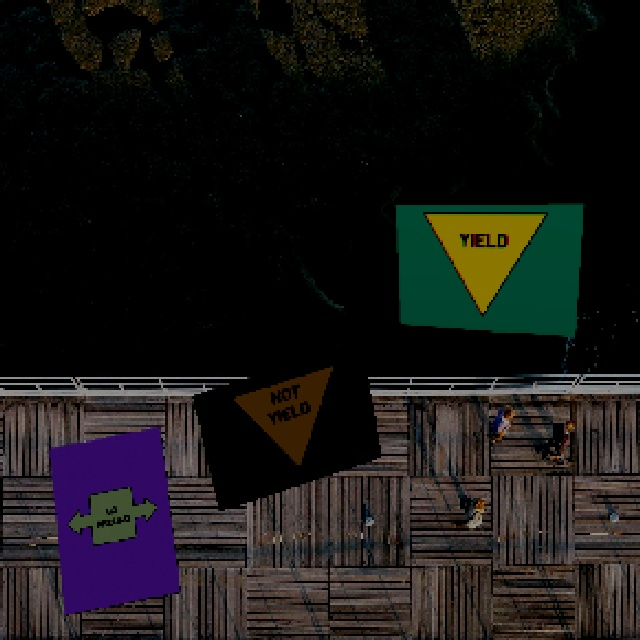GO_AROUND: (61, 479, 160, 550)
NOT_YIELD: (226, 363, 355, 485)
YIELD: (422, 211, 546, 319)
